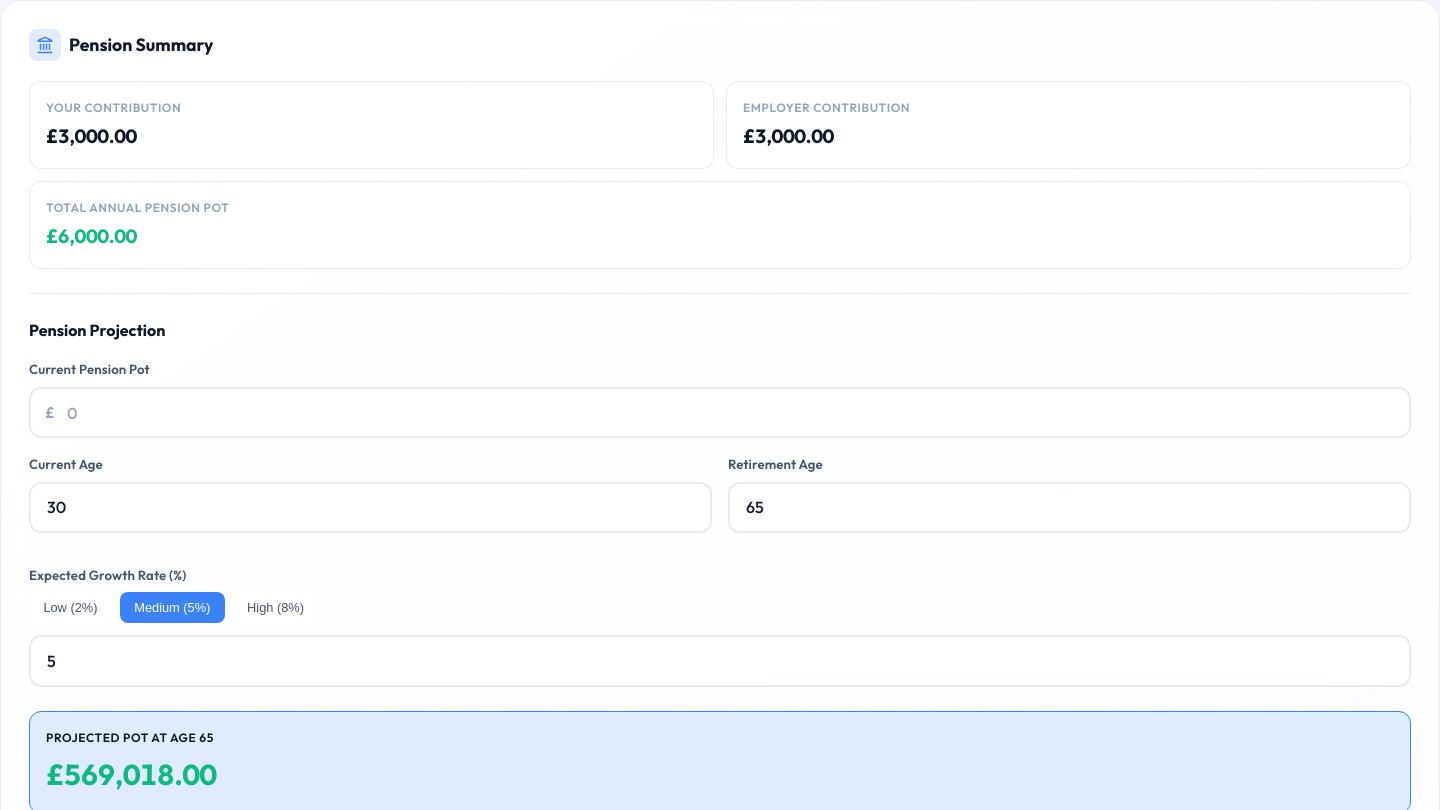
Test: PensionSummaryCard › updates the selected preset growth rate when preset buttons are clicked
// Click High
Click the button "High (8%)" at (276, 608), box [233,592,318,623]
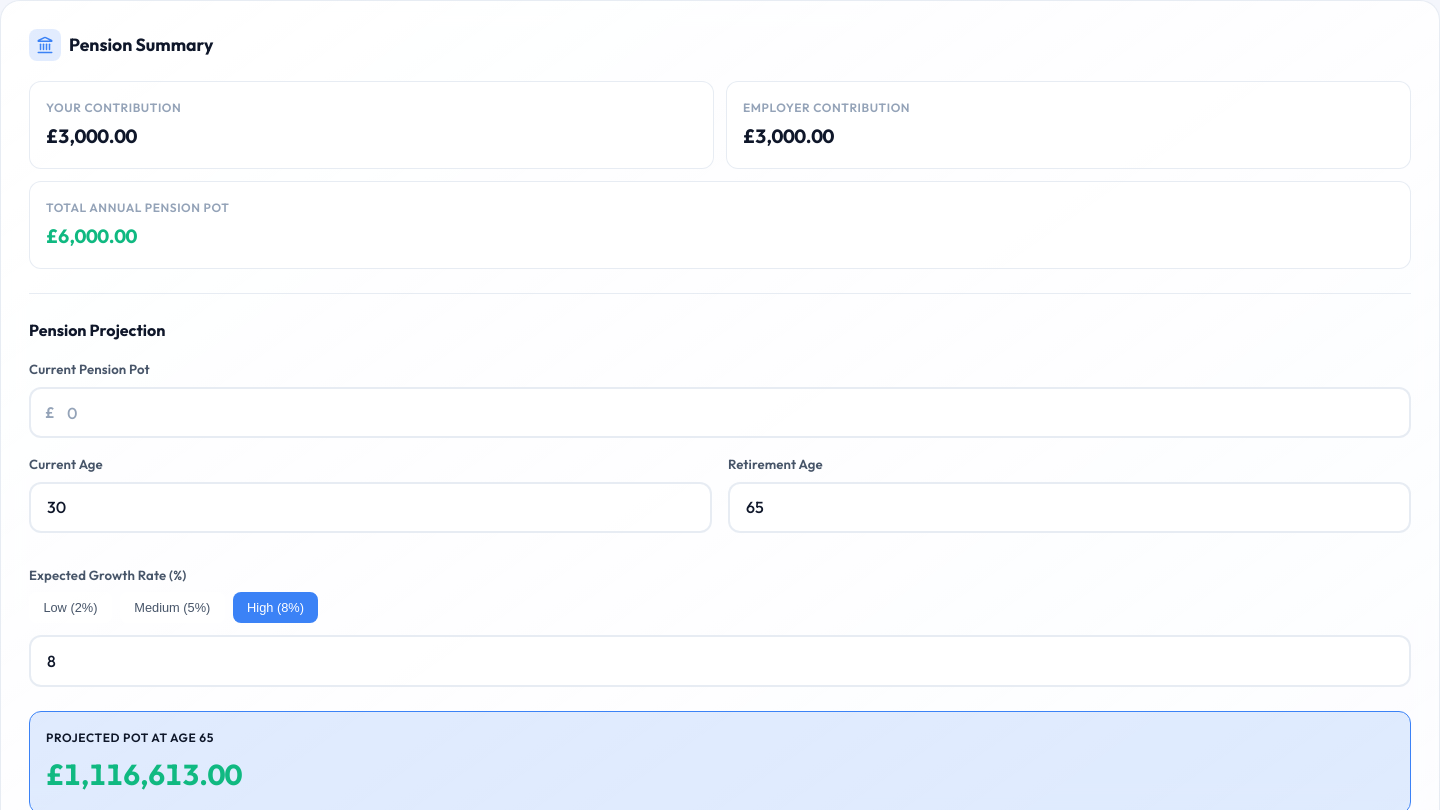
Expected: the number field below "Expected Growth Rate (%)" holds "8", [29,635,1411,686]
// Click Low
Click the button "Low (2%)" at (70, 608), box [29,592,112,623]
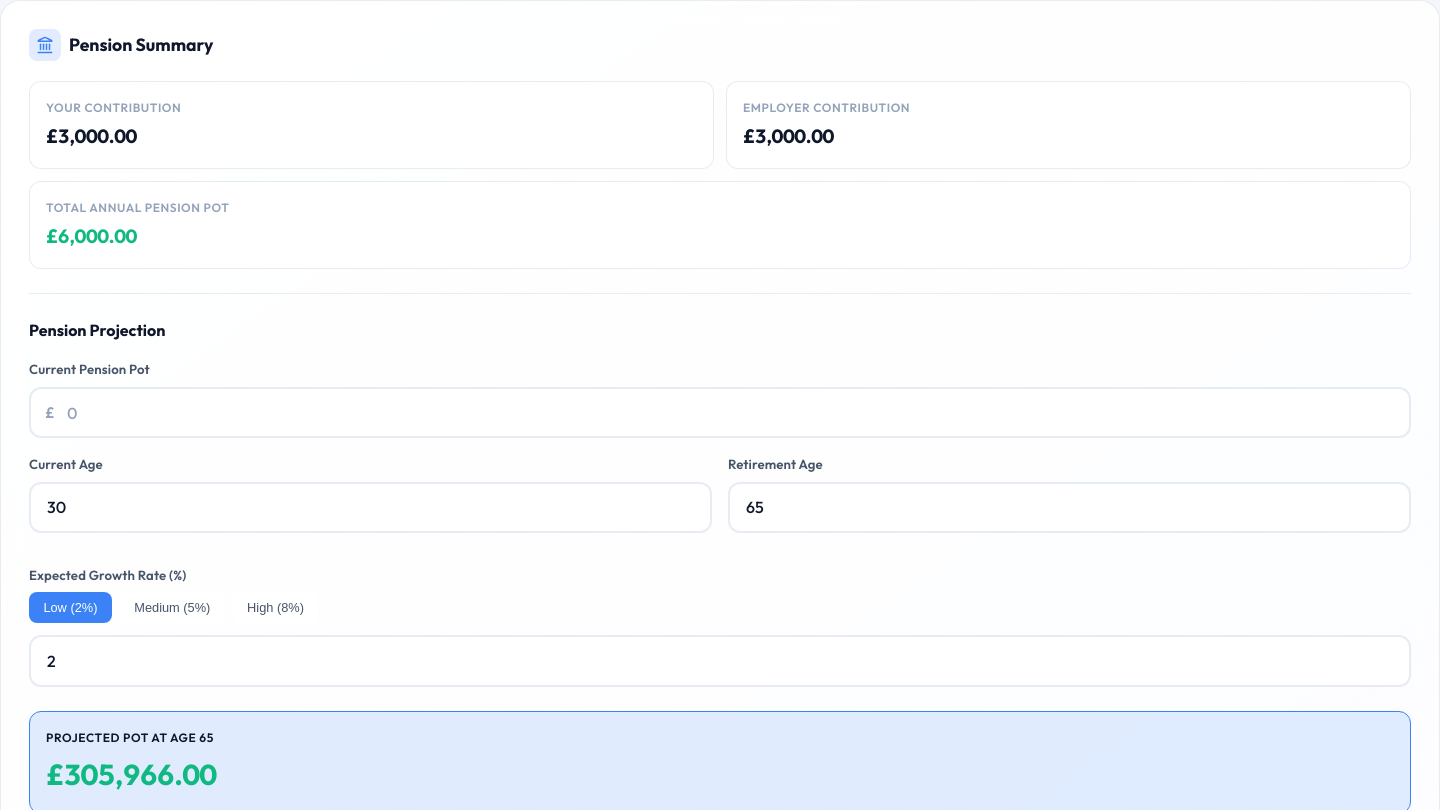
Expected: the number field below "Expected Growth Rate (%)" holds "2", [29,635,1411,686]
